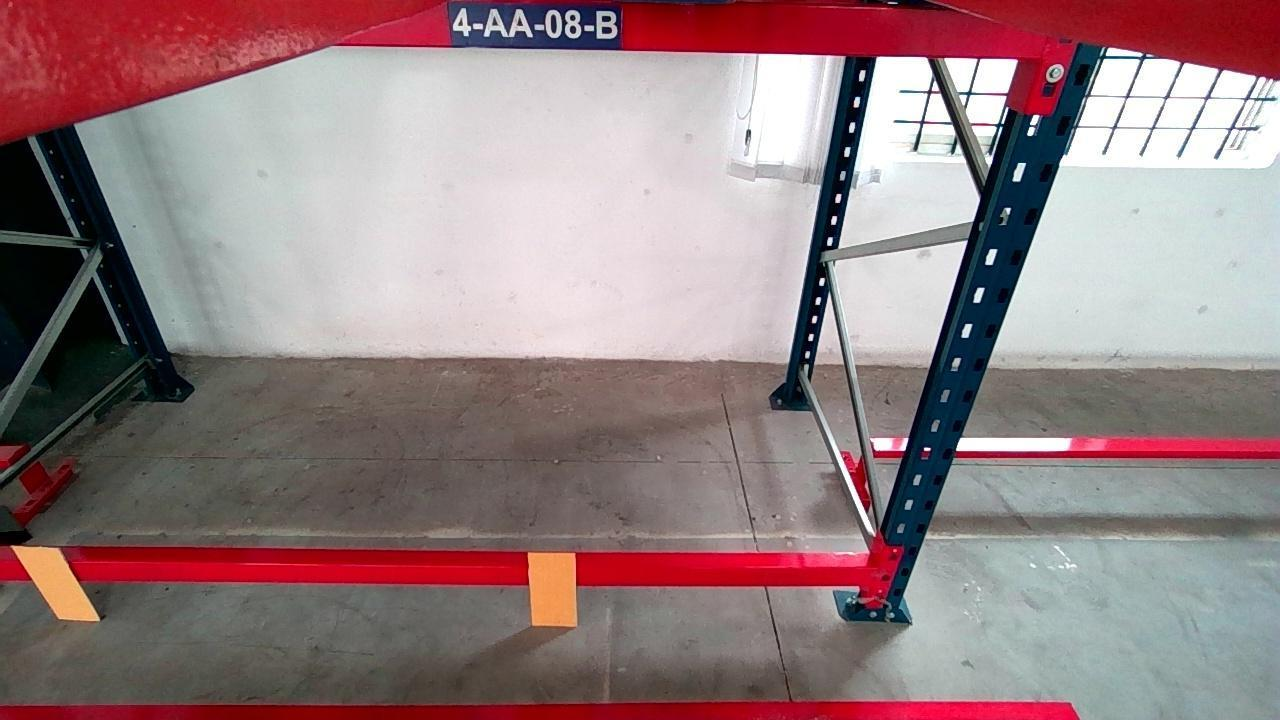h_rack: (331, 0, 1048, 60), (0, 559, 877, 586)
orange_strip: (11, 545, 100, 619), (524, 553, 578, 626)
red_line: (0, 699, 1082, 720)
